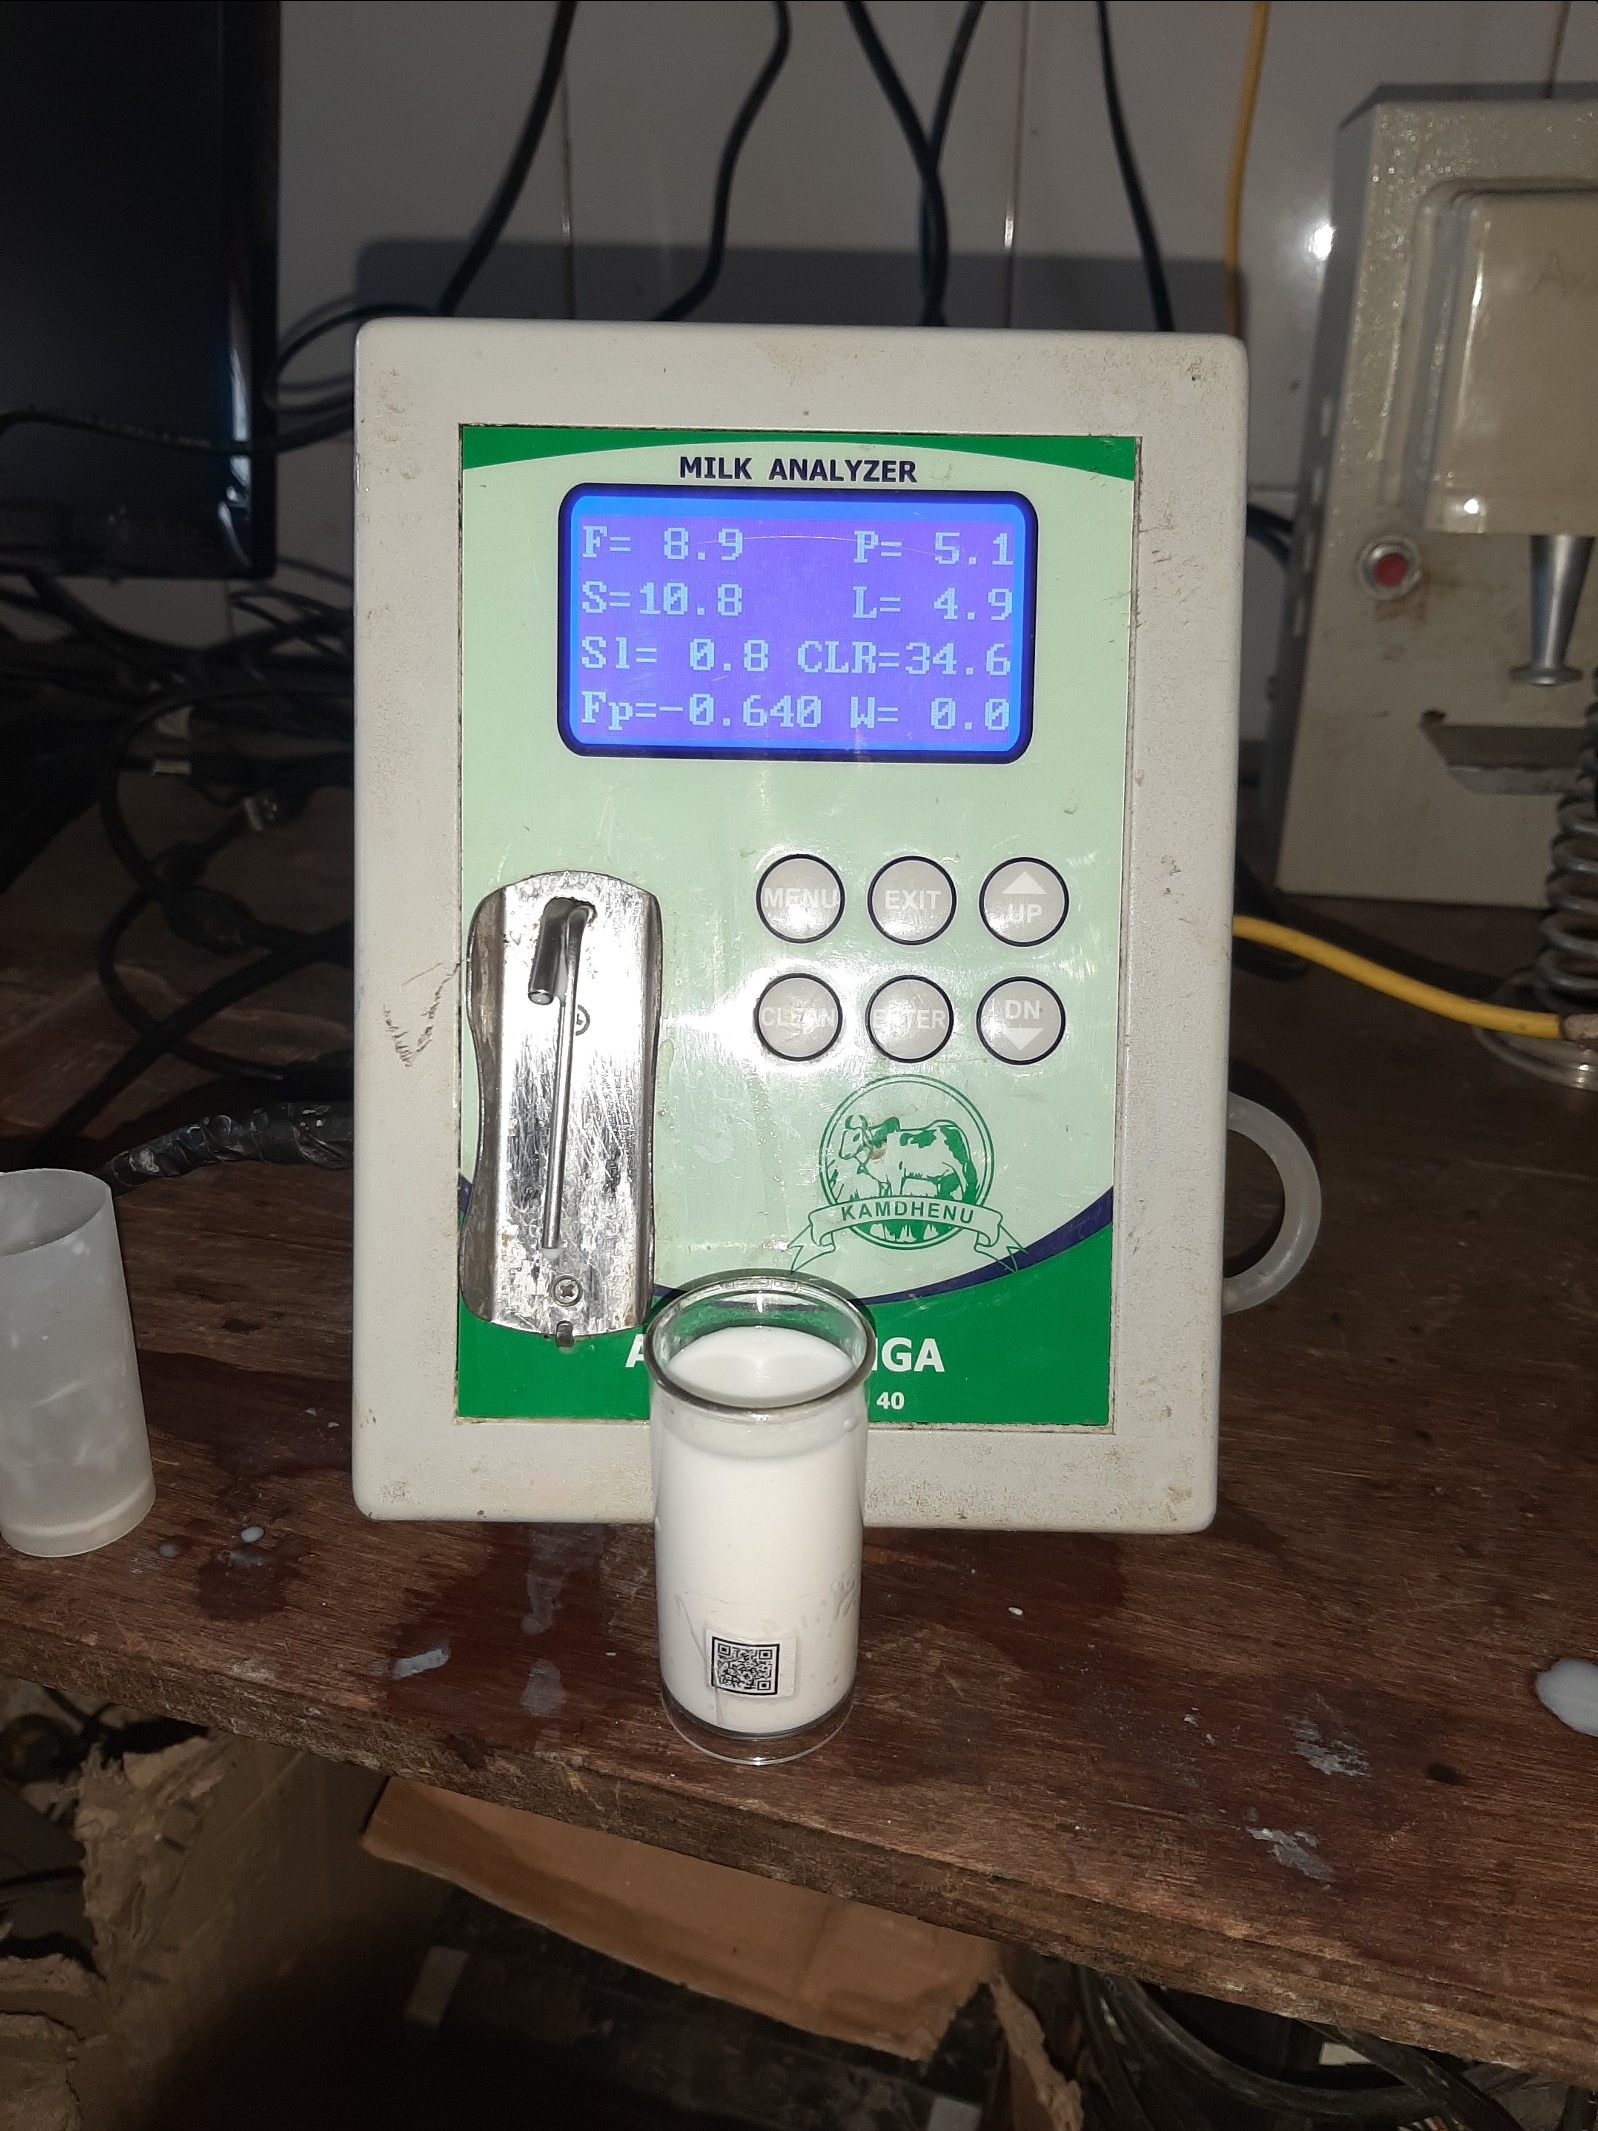lcd: (546, 472, 1056, 787)
qr: (703, 1623, 843, 1732)
